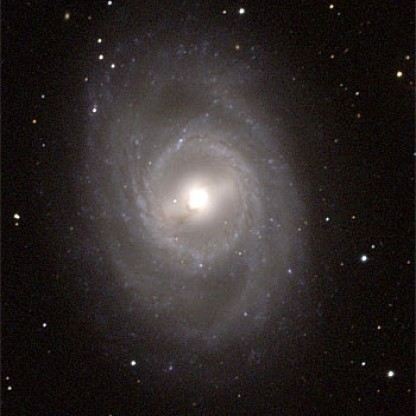Messier 95: (67, 5, 338, 398)
